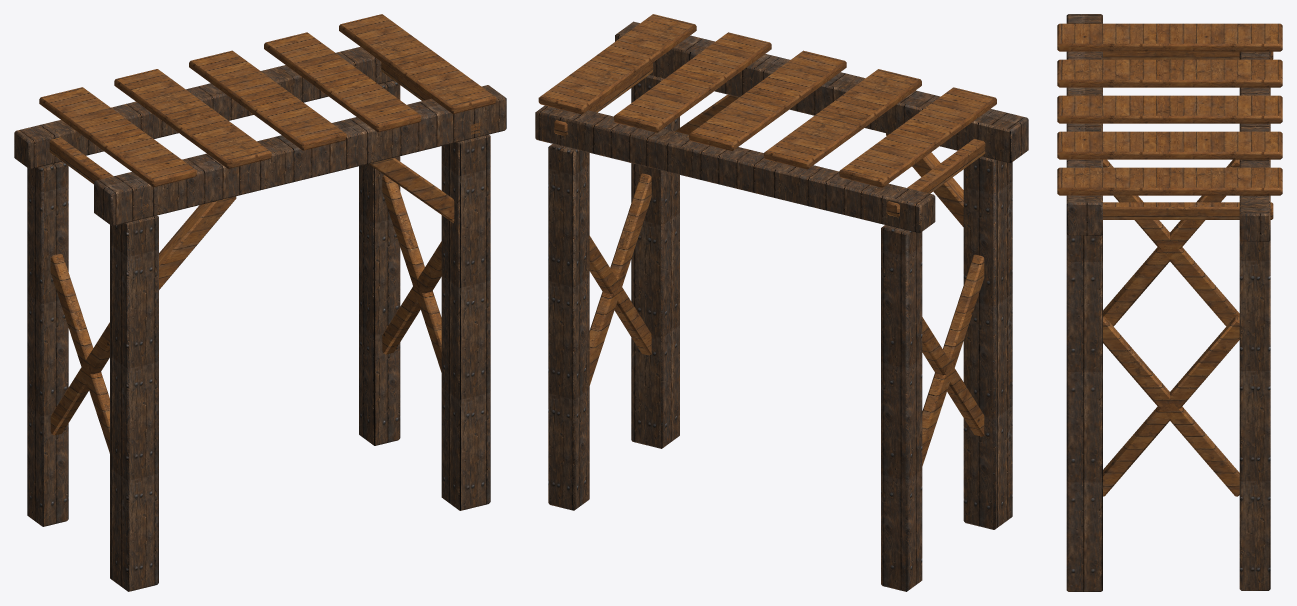
Rendered from mine-supports-v01.glb.
3 renders of one model, left to right at view 1: azimuth 30°, elevation 25°; view 2: azimuth 150°, elevation 25°; view 3: azimuth 270°, elevation 25°, orthographic.
Visible parts, largest first — view 1: mine-supports; view 2: mine-supports; view 3: mine-supports.
Part boxes in pixels (bbox=[...]): mine-supports: bbox=[14, 14, 506, 591]; mine-supports: bbox=[535, 14, 1028, 591]; mine-supports: bbox=[1057, 14, 1282, 591].
Size of the model in its own units: 3.7 by 3.67 by 1.85.
Materials: 2 (2 with a texture image).
